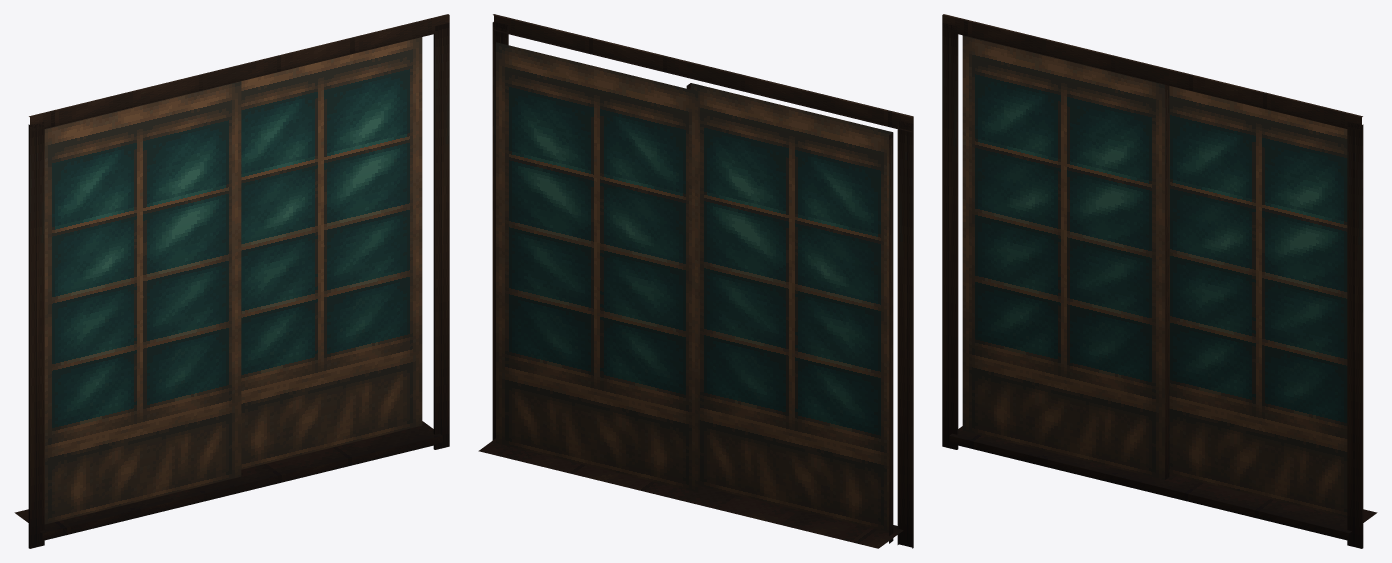
The model's file is prop_sash-16-16-1.glb.
3 views of the same model, side by side, from view 1: azimuth 30°, elevation 25°; view 2: azimuth 150°, elevation 25°; view 3: azimuth 330°, elevation 25° (orthographic).
Parts seen in each view (by area): view 1: prop_sash-16-16-1; view 2: prop_sash-16-16-1; view 3: prop_sash-16-16-1.
Part boxes in pixels (box(x1,y1,x2,y2)): prop_sash-16-16-1: box(14, 14, 449, 548); prop_sash-16-16-1: box(478, 14, 913, 548); prop_sash-16-16-1: box(942, 14, 1377, 548).
Bounding box in the file's own units: 1.72 × 1.69 × 0.2.
2 materials, 2 textured.
